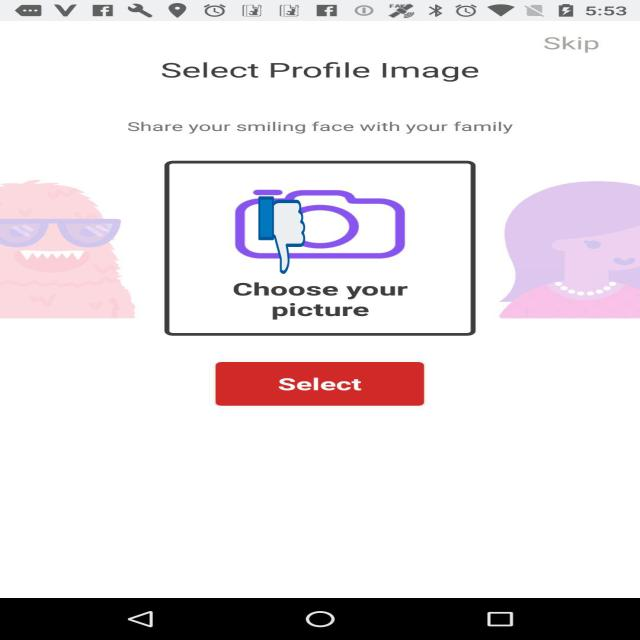obstruction: (258, 194, 306, 276)
